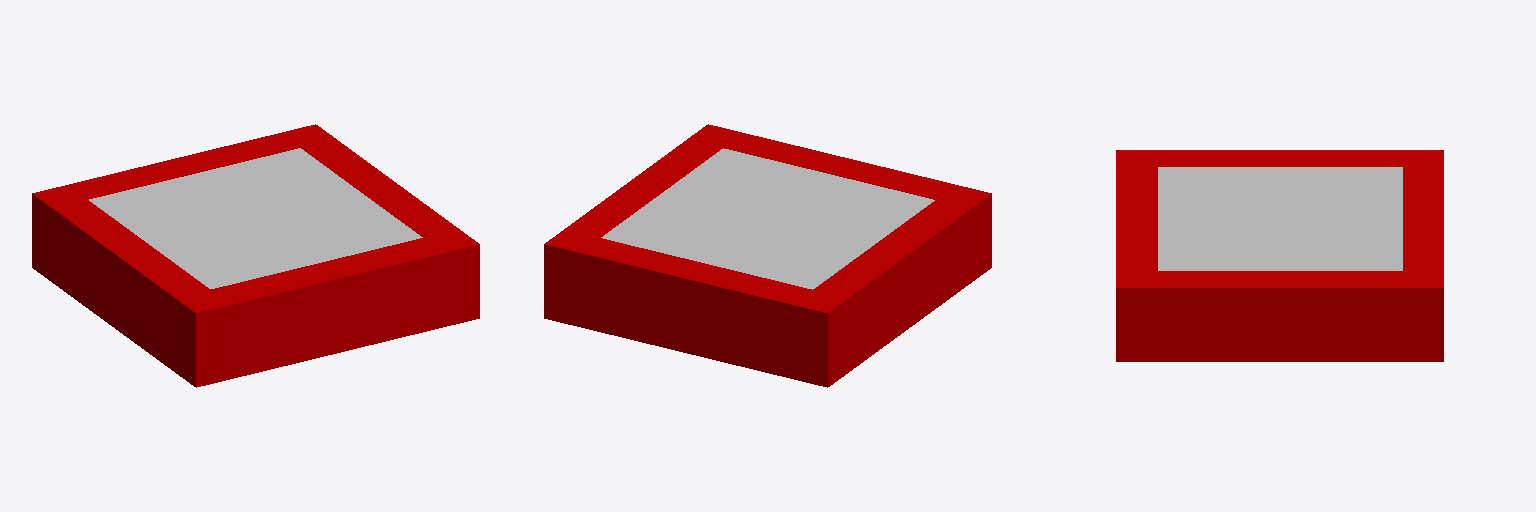
The model's file is Floor_Border.obj.
The picture shows the model from 3 angles: view 1: azimuth 30°, elevation 25°; view 2: azimuth 150°, elevation 25°; view 3: azimuth 270°, elevation 25°; orthographic projection.
Visible parts, largest first — view 1: Cube_Cube.001; view 2: Cube_Cube.001; view 3: Cube_Cube.001.
Boxes of the visible parts, box(x1,y1,x2,y2) form: Cube_Cube.001: box(32, 124, 479, 387); Cube_Cube.001: box(544, 124, 991, 387); Cube_Cube.001: box(1116, 150, 1443, 361).
Bounding box in the file's own units: 4 × 1 × 4.